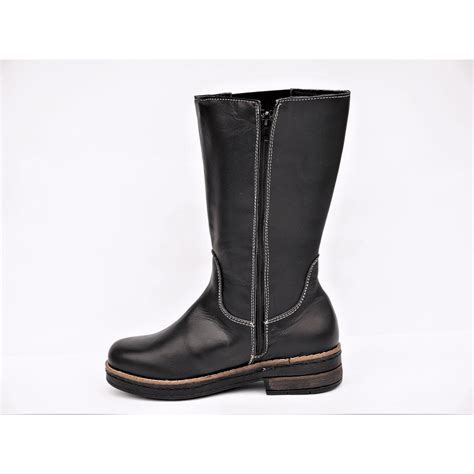cuero: (107, 85, 352, 383)
